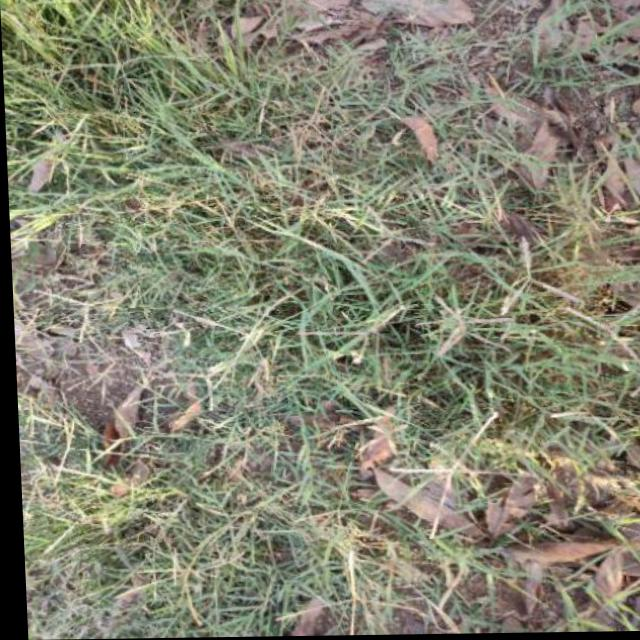weed: (37, 18, 618, 592)
